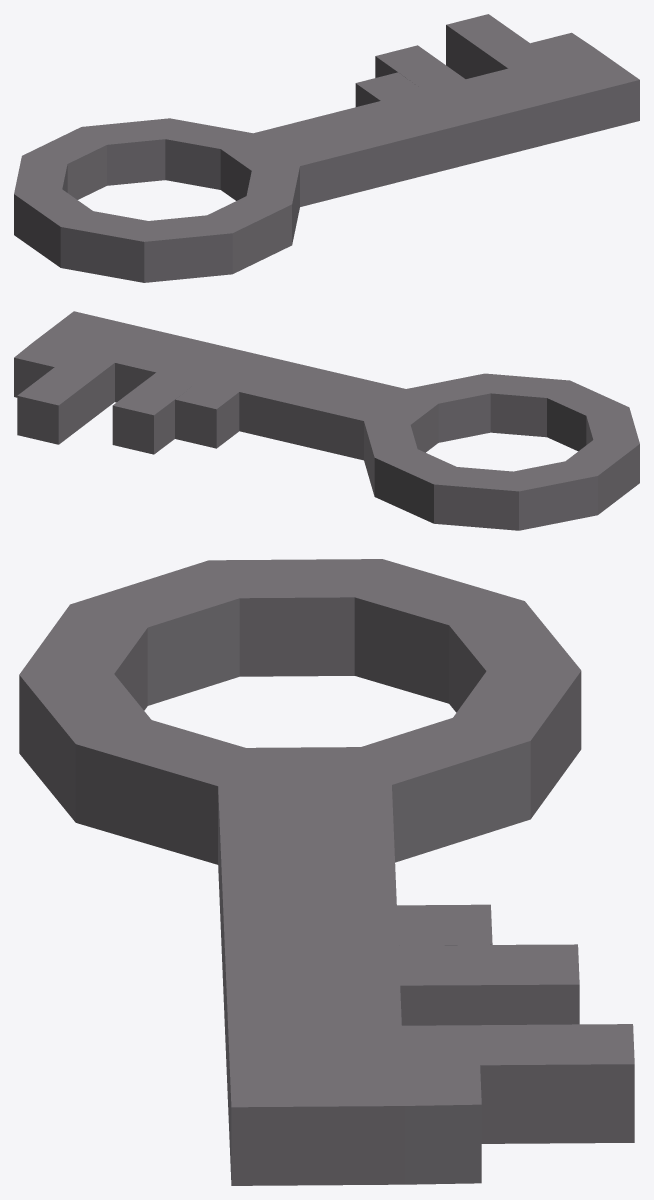
The model's file is key02.obj.
3 renders of one model, top to bottom at view 1: azimuth 30°, elevation 25°; view 2: azimuth 150°, elevation 25°; view 3: azimuth 270°, elevation 25°, orthographic. The views are drawn at different scales.
Visible parts, largest first — view 1: Cylinder; view 2: Cylinder; view 3: Cylinder.
Part boxes in pixels (bbox=[...]): Cylinder: bbox=[14, 14, 639, 282]; Cylinder: bbox=[14, 311, 639, 530]; Cylinder: bbox=[19, 559, 634, 1185].
Size of the model in its own units: 0.1228 by 0.00822 by 0.0583.
